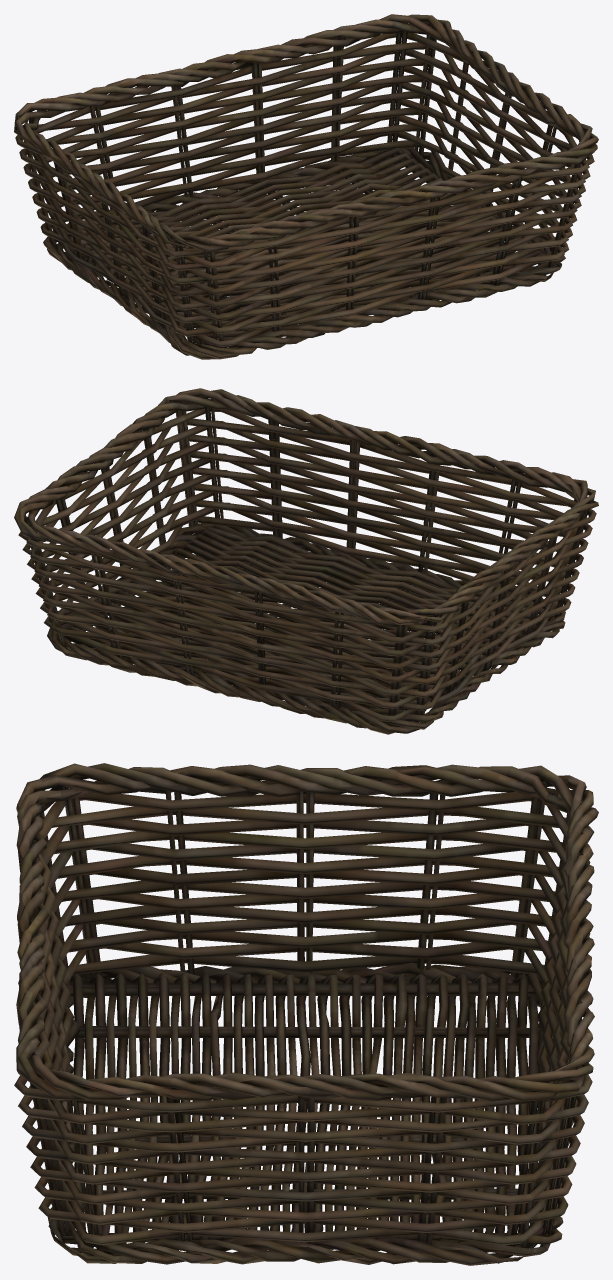
File: wicker_basket_01.glb
The picture shows the model from 3 angles, top to bottom: view 1: azimuth 30°, elevation 25°; view 2: azimuth 150°, elevation 25°; view 3: azimuth 270°, elevation 25°; orthographic projection. The views are drawn at different scales.
Visible parts, largest first — view 1: wicker_basket_01; view 2: wicker_basket_01; view 3: wicker_basket_01.
Part boxes in pixels (x1,y1,x2,y2): wicker_basket_01: (14, 14, 598, 359); wicker_basket_01: (14, 388, 598, 734); wicker_basket_01: (14, 763, 598, 1265).
Bounding box in the file's own units: 0.3832 × 0.1174 × 0.295.
1 material, 1 textured.
